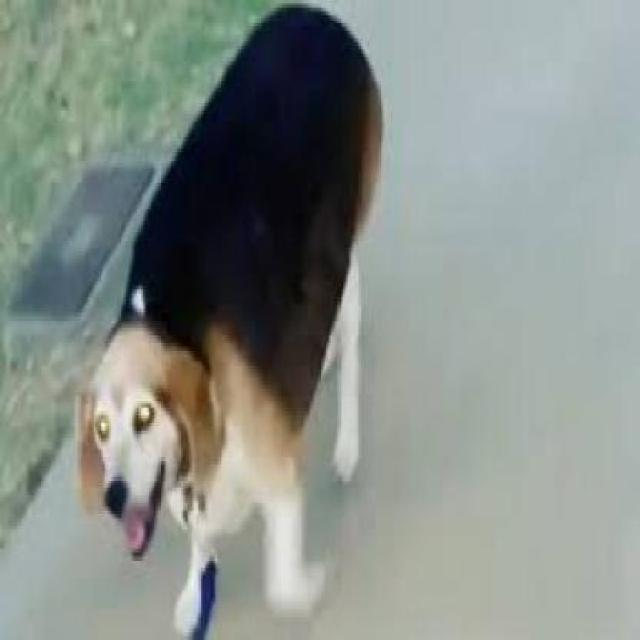Dog: (73, 4, 384, 638)
